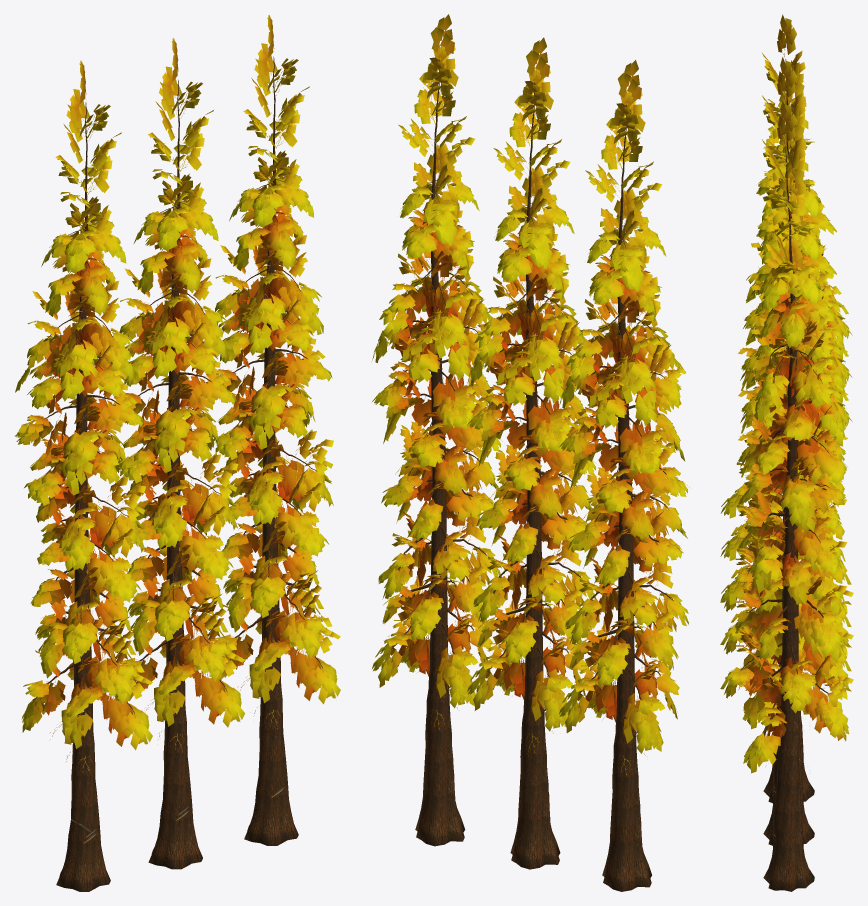
File: tron.fbx
3 renders of one model, left to right at view 1: azimuth 30°, elevation 25°; view 2: azimuth 150°, elevation 25°; view 3: azimuth 270°, elevation 25°, orthographic. The views are drawn at different scales.
Parts seen in each view (by area): view 1: tree_4, tree_4.001, tree_4.002; view 2: tree_4, tree_4.001, tree_4.002; view 3: tree_4.001, tree_4.002, tree_4.
Part boxes in pixels (x1,y1,x2,y2): tree_4: [14, 60, 152, 891]; tree_4.001: [204, 15, 340, 845]; tree_4.002: [110, 38, 244, 869]; tree_4: [557, 60, 689, 891]; tree_4.001: [372, 14, 502, 846]; tree_4.002: [465, 37, 596, 869]; tree_4.001: [720, 101, 853, 891]; tree_4.002: [720, 57, 853, 845]; tree_4: [720, 14, 853, 803].
Size of the model in its own units: 3360 by 8712 by 1358.
